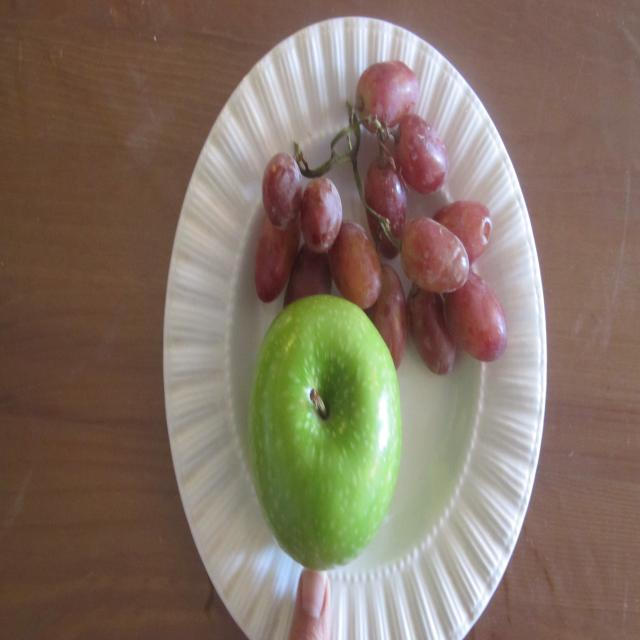Apple: (248, 294, 404, 573)
Finger: (282, 570, 341, 640)
Grapes: (243, 52, 508, 297)
